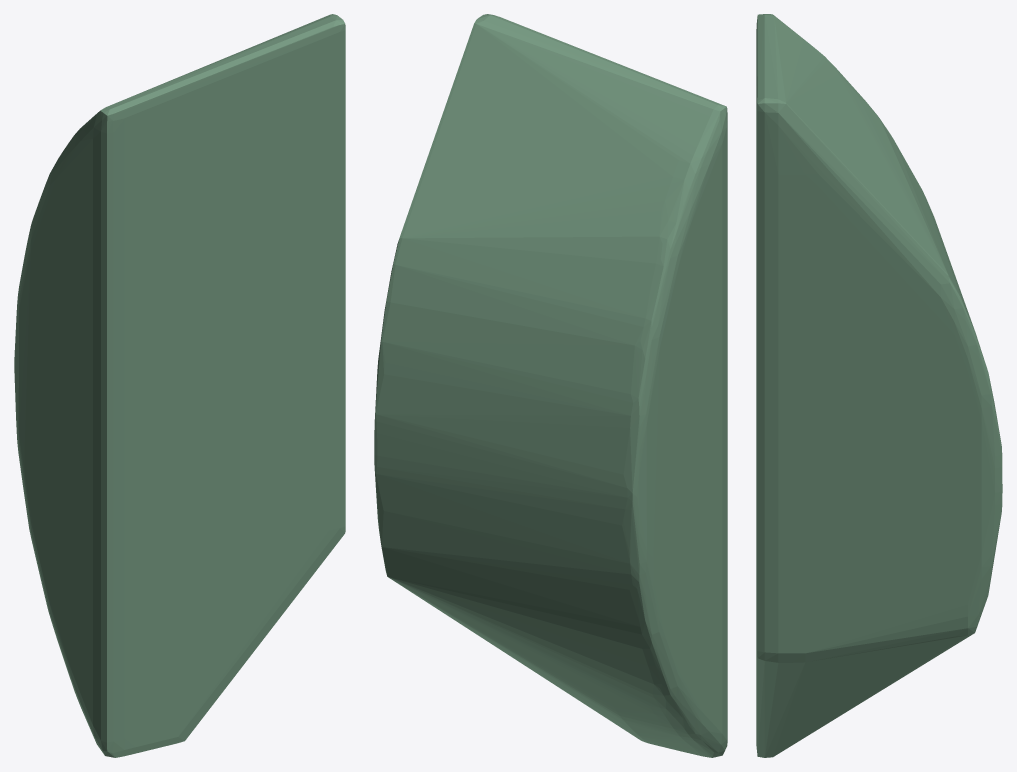
File: right_hip_roll_link_part_0.obj
3 renders of one model, left to right at view 1: azimuth 30°, elevation 25°; view 2: azimuth 150°, elevation 25°; view 3: azimuth 270°, elevation 25°, orthographic. The views are drawn at different scales.
Bounding box in the file's own units: 0.0338 × 0.0892 × 0.0268.
